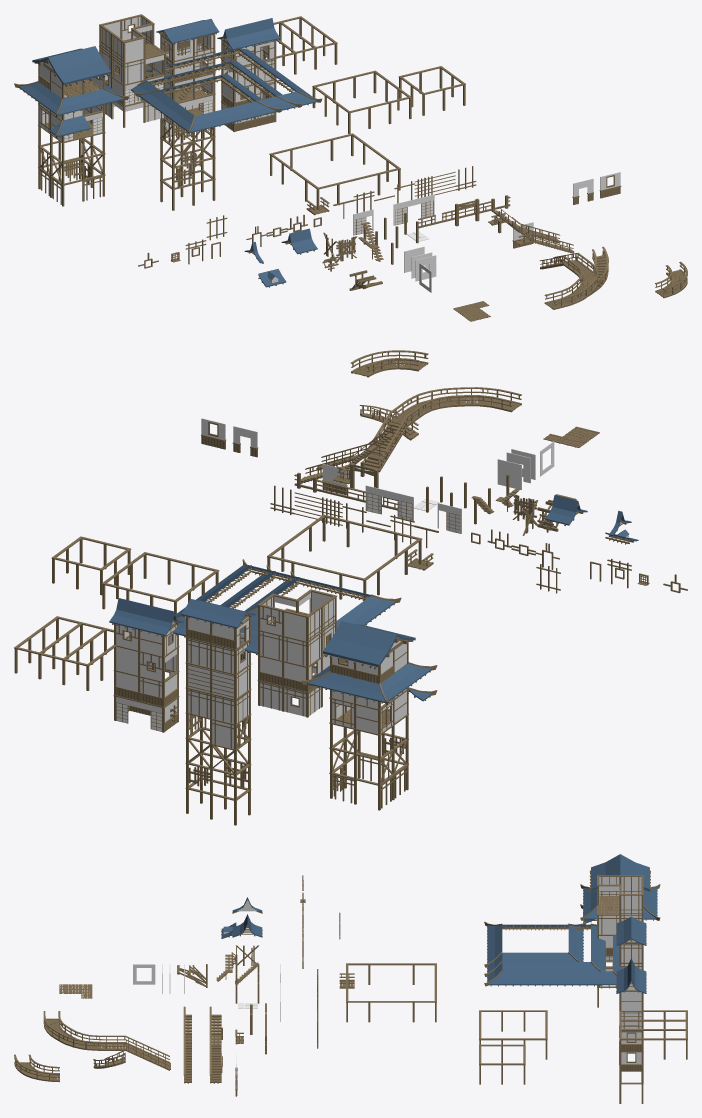
The model's file is House Sections.fbx.
3 views of the same model, one above another, from view 1: azimuth 30°, elevation 25°; view 2: azimuth 150°, elevation 25°; view 3: azimuth 270°, elevation 25° (orthographic). The views are drawn at different scales.
Visible parts, largest first — view 1: 5x5 Roof Extension, 4x4 Roof Extension, 2x2 Section 7, 2x2 Roof 1, 2x2 Roof Extension, 4x4 Pllars, 3x3 Roof Extension, Curved Bridge 1, 3x3 Pllars 2, 2x2 Unfinished 2, 2x2 Section 3, 2x2 Unfinished 3 (+23 smaller); view 2: 2x2 Section 7, 2x2 Roof 1, 2x2 Roof Extension, Curved Bridge 1, 3x3 Pllars, 5x5 Roof Extension, 4x4 Pllars, 2x2 Section 3, 2x2 Section 5, 1x2 Section 5, 2x2 Unfinished 3, 4x4 Roof Extension (+24 smaller); view 3: 5x5 Roof Extension, 4x4 Roof Extension, 3x3 Roof Extension, 2x2 Section 7, Curved Bridge 1, 2x2 Roof 1, 3x3 Pllars, 4x4 Pllars, 2x2 Roof Extension, 1x2 Roof 2, 1x2 Roof 1, 2x2 Section 3 (+11 smaller).
Part boxes in pixels (x1=…): 5x5 Roof Extension: x1=132, y1=47, x2=322, y2=132; 4x4 Roof Extension: x1=130, y1=56, x2=301, y2=134; 2x2 Section 7: x1=99, y1=14, x2=154, y2=63; 2x2 Roof 1: x1=32, y1=46, x2=110, y2=86; 2x2 Roof Extension: x1=14, y1=81, x2=129, y2=117; 4x4 Pllars: x1=269, y1=133, x2=400, y2=209; 3x3 Roof Extension: x1=134, y1=69, x2=281, y2=134; Curved Bridge 1: x1=544, y1=252, x2=598, y2=309; 3x3 Pllars 2: x1=312, y1=70, x2=411, y2=133; 2x2 Unfinished 2: x1=38, y1=138, x2=105, y2=184; 2x2 Section 3: x1=99, y1=37, x2=166, y2=84; 2x2 Unfinished 3: x1=38, y1=157, x2=105, y2=206; 2x2 Section 7: x1=257, y1=589, x2=337, y2=641; 2x2 Roof 1: x1=323, y1=621, x2=415, y2=669; 2x2 Roof Extension: x1=301, y1=662, x2=437, y2=705; Curved Bridge 1: x1=390, y1=387, x2=521, y2=426; 3x3 Pllars: x1=14, y1=616, x2=128, y2=690; 5x5 Roof Extension: x1=173, y1=559, x2=386, y2=654; 4x4 Pllars: x1=267, y1=514, x2=422, y2=600; 2x2 Section 3: x1=257, y1=608, x2=337, y2=666; 2x2 Section 5: x1=329, y1=689, x2=408, y2=734; 1x2 Section 5: x1=113, y1=664, x2=179, y2=706; 2x2 Unfinished 3: x1=329, y1=752, x2=408, y2=810; 4x4 Roof Extension: x1=220, y1=565, x2=401, y2=635; 5x5 Roof Extension: x1=484, y1=923, x2=625, y2=986; 4x4 Roof Extension: x1=484, y1=921, x2=605, y2=976; 3x3 Roof Extension: x1=484, y1=921, x2=586, y2=967; 2x2 Section 7: x1=597, y1=875, x2=643, y2=914; Curved Bridge 1: x1=43, y1=1011, x2=125, y2=1050; 2x2 Roof 1: x1=589, y1=854, x2=650, y2=891; 3x3 Pllars: x1=619, y1=1010, x2=687, y2=1059; 4x4 Pllars: x1=346, y1=963, x2=436, y2=1022; 2x2 Roof Extension: x1=580, y1=884, x2=660, y2=920; 1x2 Roof 2: x1=616, y1=958, x2=646, y2=993; 1x2 Roof 1: x1=616, y1=916, x2=646, y2=945; 2x2 Section 3: x1=597, y1=895, x2=643, y2=934.
Size of the model in its own units: 6600 by 2706 by 9129.
